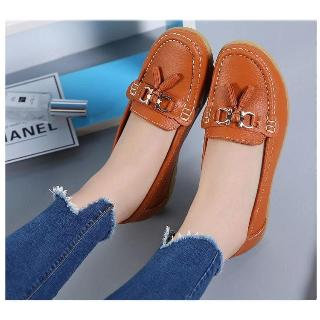loafers: (103, 24, 294, 262)
